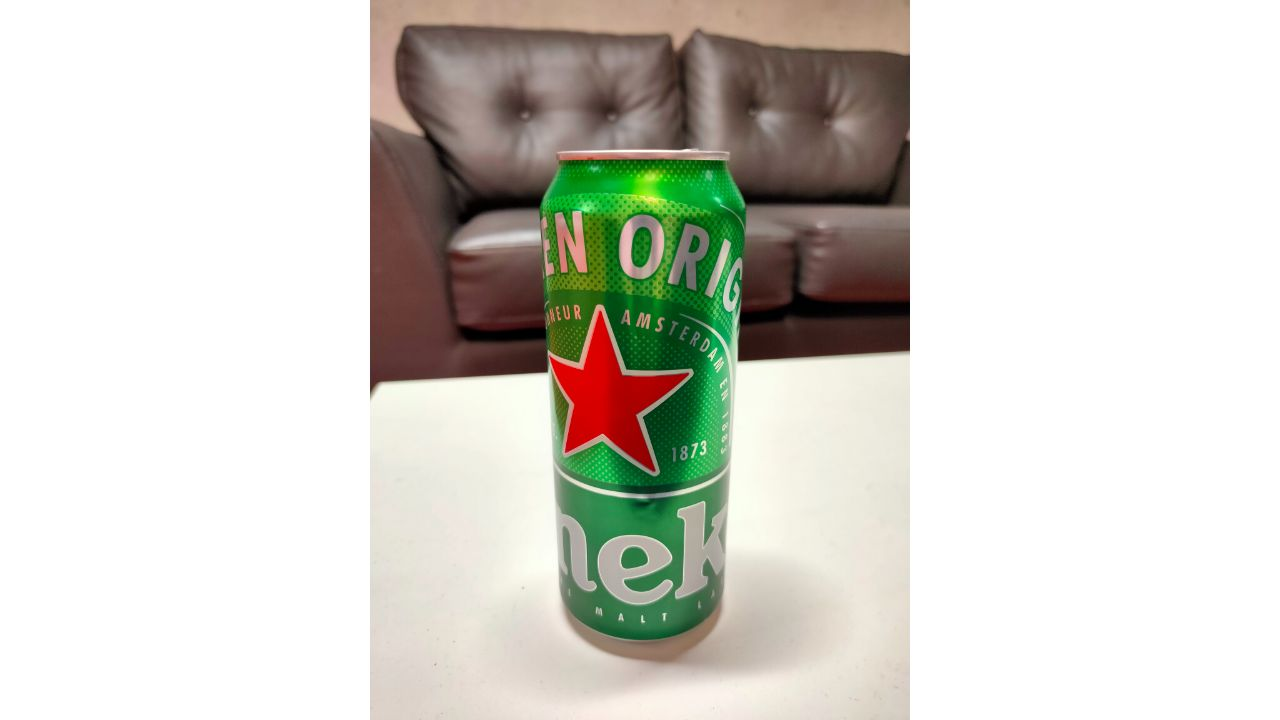Can: (539, 147, 748, 641)
